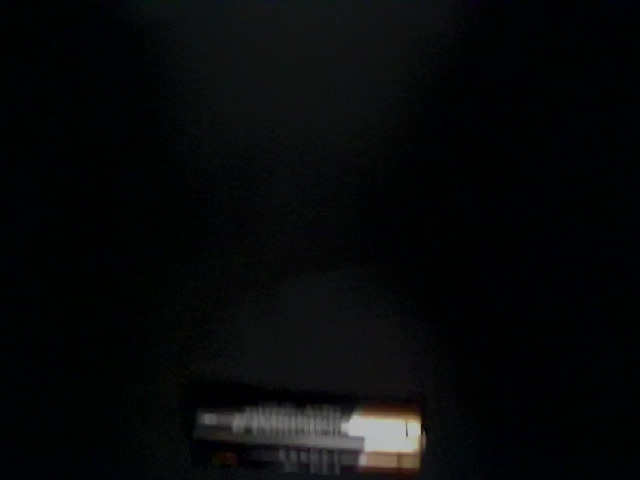QTLJ: (134, 1, 196, 30)
